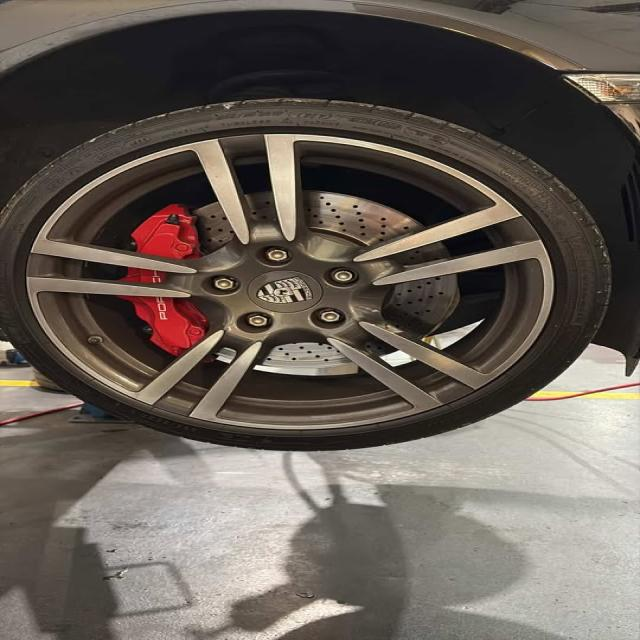jante: (24, 131, 555, 430)
parafuso: (264, 246, 292, 265), (209, 278, 236, 292), (331, 269, 355, 284), (320, 310, 342, 324), (245, 315, 268, 327)
roda: (0, 97, 613, 450)
